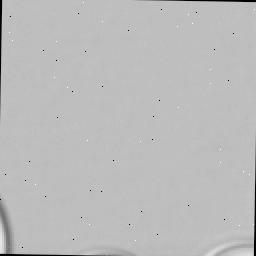picoshell: (202, 238, 252, 256), (0, 201, 8, 252)
